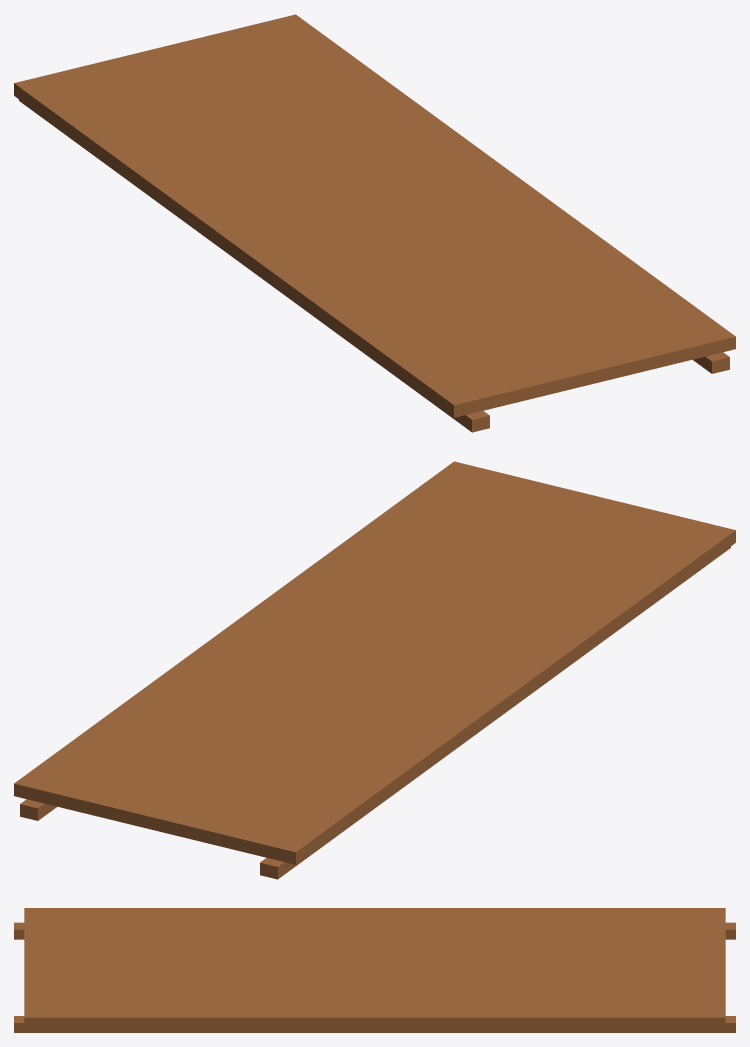
The model's file is Bridge.fbx.
3 renders of one model, top to bottom at view 1: azimuth 30°, elevation 25°; view 2: azimuth 150°, elevation 25°; view 3: azimuth 270°, elevation 25°, orthographic. The views are drawn at different scales.
Visible parts, largest first — view 1: pCube4; view 2: pCube4; view 3: pCube4.
Boxes of the visible parts, box(x1,y1,x2,y2) form: pCube4: box(14, 14, 735, 432); pCube4: box(14, 461, 735, 879); pCube4: box(14, 908, 735, 1032).
Bounding box in the file's own units: 91.5 × 7.85 × 255.
